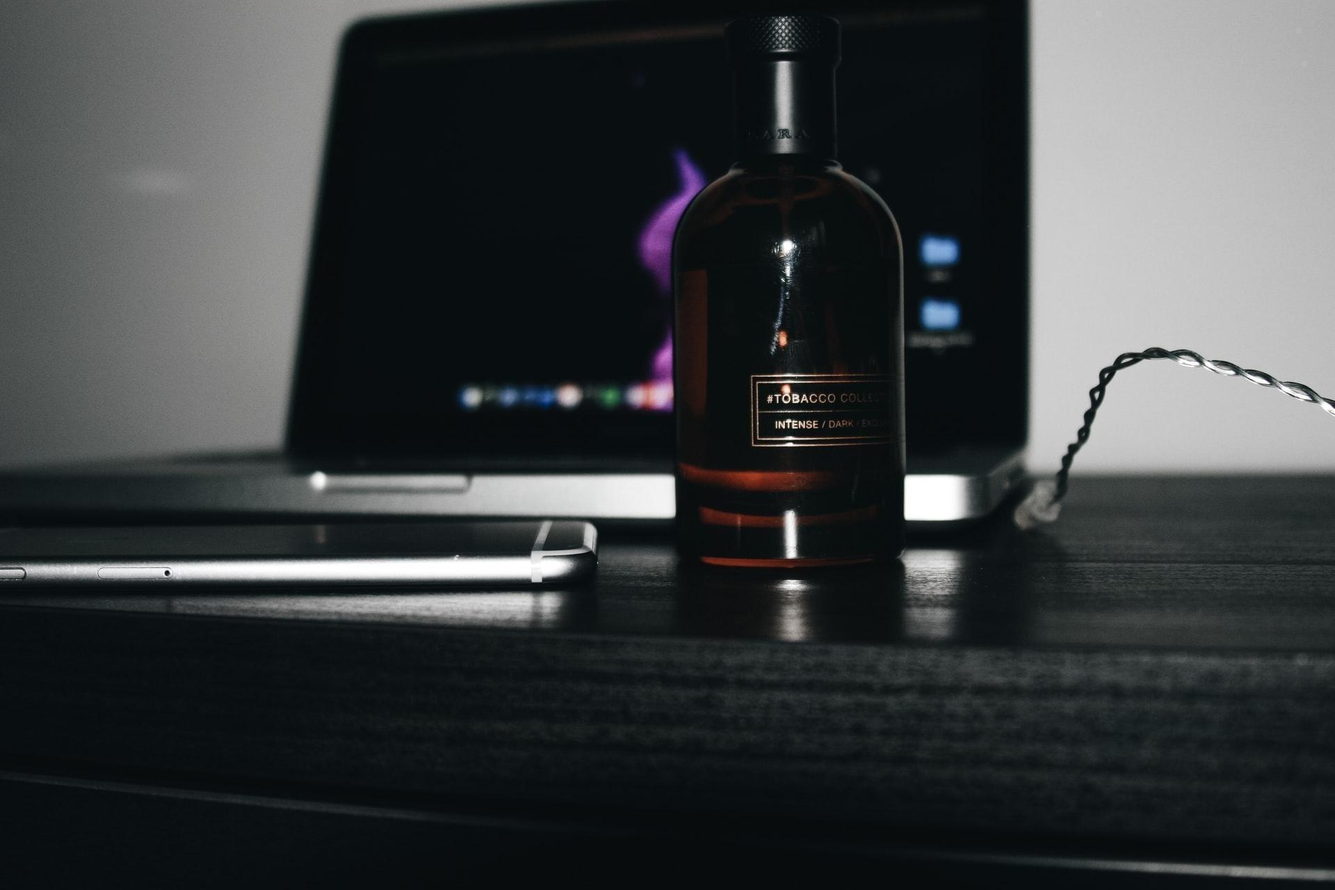bottle-glass: (665, 1, 908, 576)
